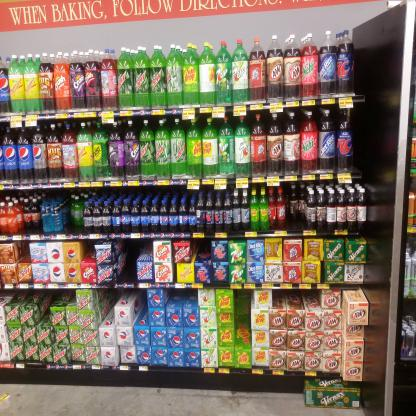Void: (274, 288, 321, 310), (235, 292, 250, 347), (122, 242, 136, 280), (3, 288, 36, 304), (40, 287, 52, 326), (56, 289, 76, 303), (16, 242, 29, 263)
